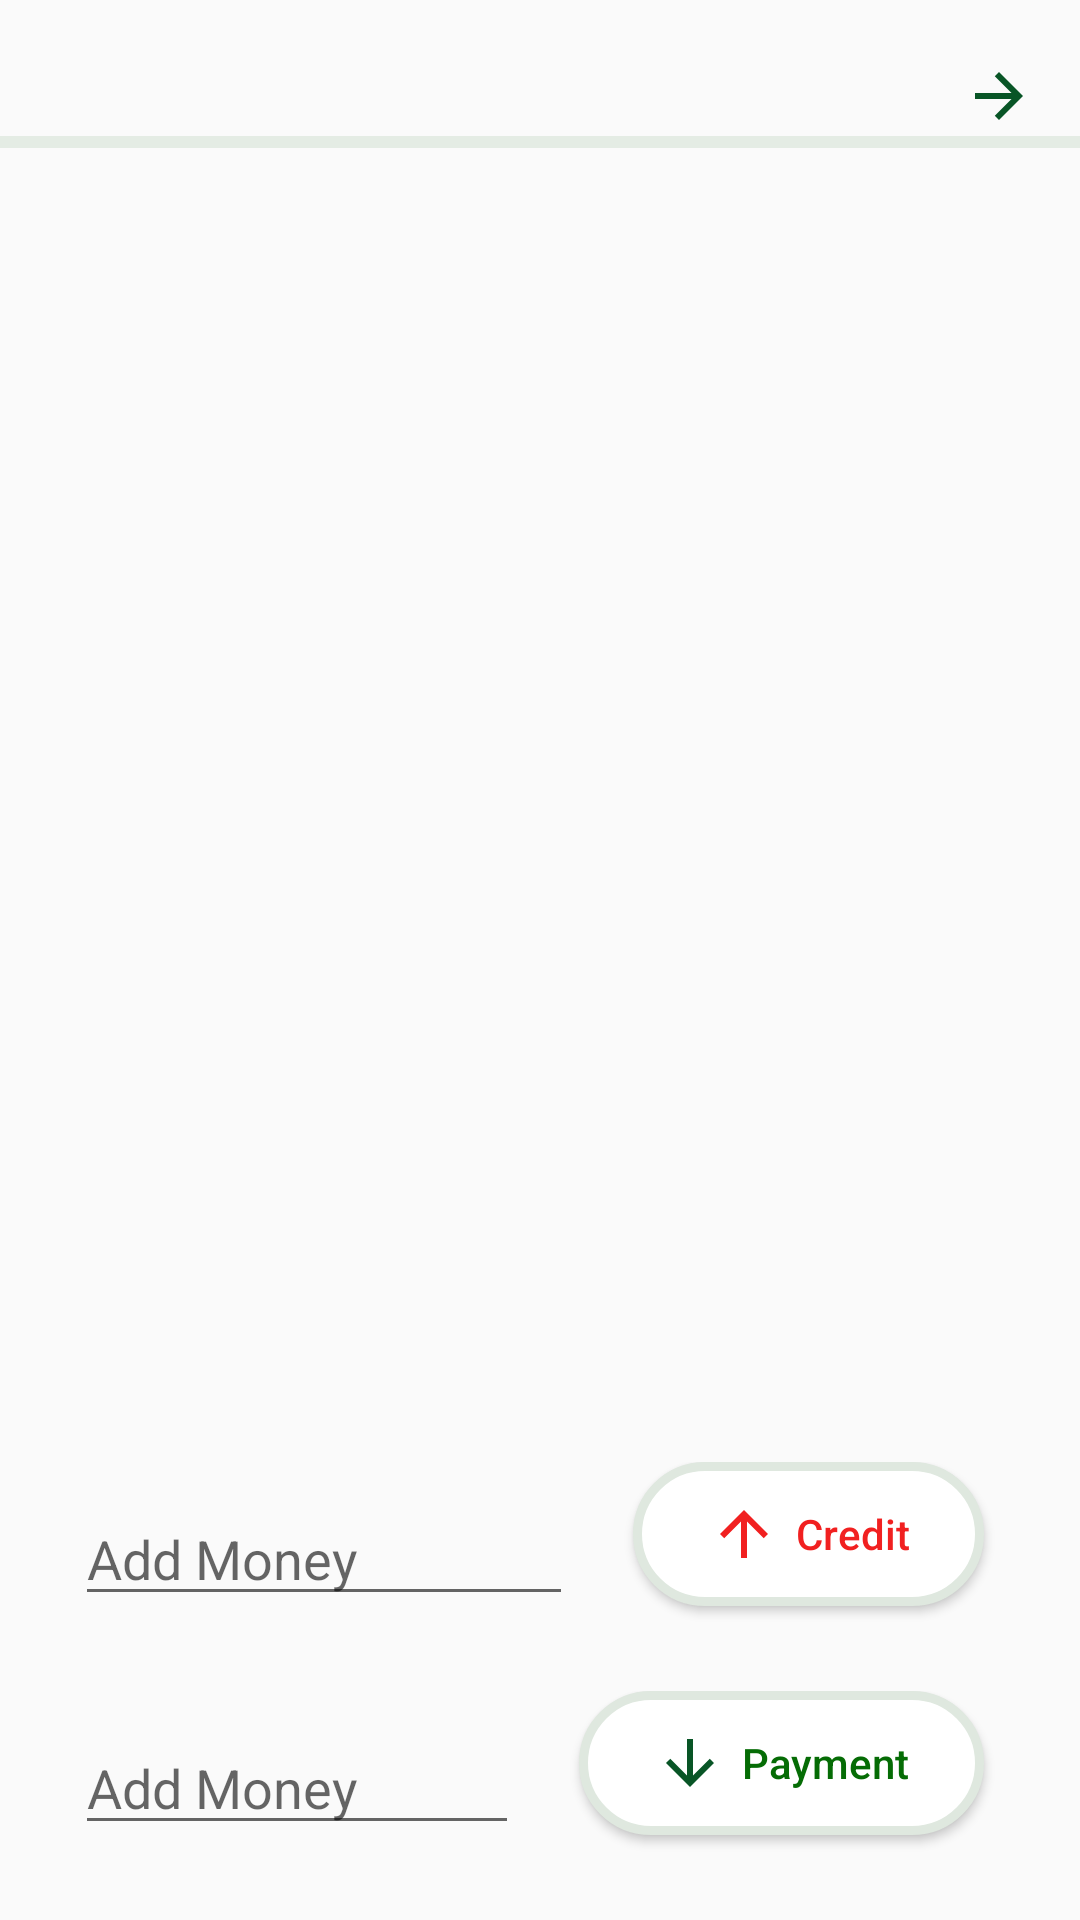

Where to tap for icons on this 1080w x 1920h app screen, as [x,y]:
arrow forward: [999,96]
